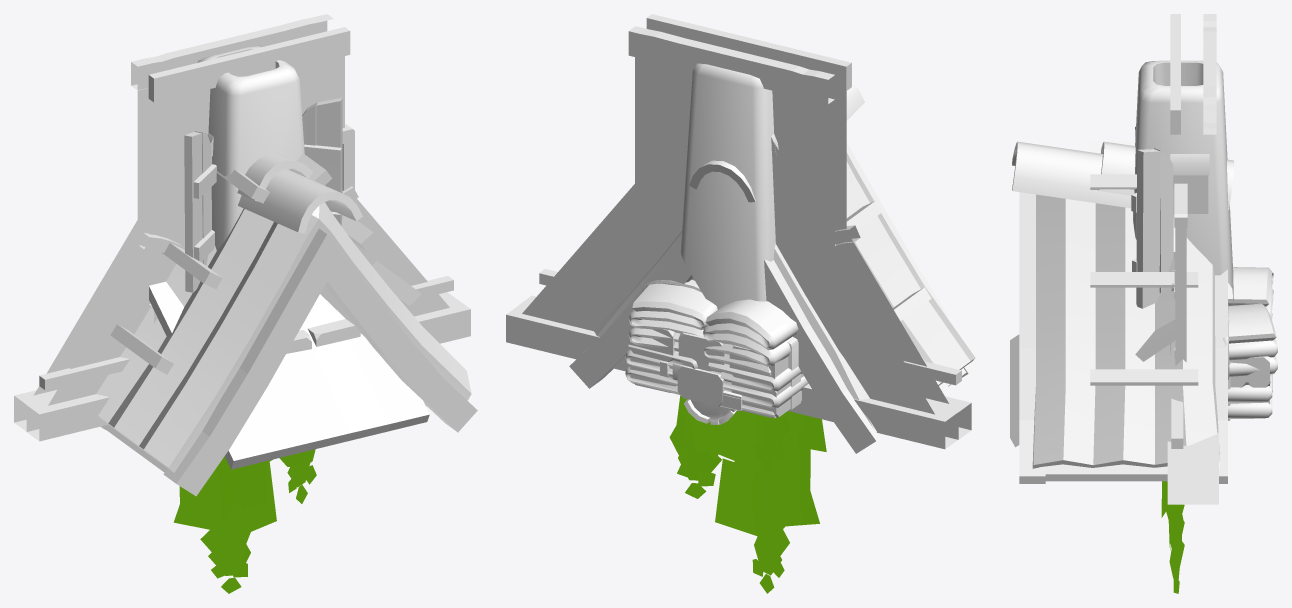
Rendered from tv_town.glb.
3 views of the same model, side by side, from view 1: azimuth 30°, elevation 25°; view 2: azimuth 150°, elevation 25°; view 3: azimuth 270°, elevation 25° (orthographic).
Visible parts, largest first — view 1: Roof_RoundTile_2x1, Roof_Front_Brick4, Roof_Wooden_2x1_Center, Wall_Plaster_Door_Flat, Prop_Chimney2, Prop_Vine1, WindowShutters_Thin_Round_Open, Wall_Plaster_Window_Thin_Round, Wall_UnevenBrick_Door_Flat, Stone_Bricks_Stack_Medium, Door_1_Flat; view 2: Roof_Front_Brick4, Roof_RoundTile_2x1, Wall_UnevenBrick_Door_Flat, Prop_Chimney2, Prop_Vine1, Textiles_Stack_Large_Colored, Wall_Plaster_Door_Flat, Wall_UnevenBrick_Window_Thin_Round, Stone_Bricks_Stack_Medium, Prop_Vine4, Wood_Log_A, Wall_Plaster_Window_Thin_Round (+1 smaller); view 3: Roof_RoundTile_2x1, Prop_Chimney2, Roof_Front_Brick4, Textiles_Stack_Large_Colored, WindowShutters_Thin_Round_Open, Wall_Plaster_Door_Flat, Door_1_Flat, Roof_Wooden_2x1_Center, Window_Thin_Round1, Prop_Vine1, Stone_Bricks_Stack_Medium, Wall_UnevenBrick_Door_Flat.
Part boxes in pixels (left/top/right/bottom): Roof_RoundTile_2x1: left=96, top=153, right=477, bottom=496; Roof_Front_Brick4: left=14, top=153, right=470, bottom=441; Roof_Wooden_2x1_Center: left=149, top=281, right=429, bottom=469; Wall_Plaster_Door_Flat: left=131, top=14, right=350, bottom=305; Prop_Chimney2: left=197, top=45, right=304, bottom=250; Prop_Vine1: left=173, top=449, right=316, bottom=593; WindowShutters_Thin_Round_Open: left=184, top=97, right=342, bottom=292; Wall_Plaster_Window_Thin_Round: left=137, top=57, right=344, bottom=323; Wall_UnevenBrick_Door_Flat: left=140, top=14, right=349, bottom=88; Stone_Bricks_Stack_Medium: left=286, top=319, right=360, bottom=353; Door_1_Flat: left=342, top=124, right=354, bottom=243; Roof_Front_Brick4: left=506, top=121, right=971, bottom=449; Roof_RoundTile_2x1: left=569, top=80, right=981, bottom=453; Wall_UnevenBrick_Door_Flat: left=628, top=14, right=850, bottom=262; Prop_Chimney2: left=680, top=63, right=775, bottom=309; Prop_Vine1: left=669, top=395, right=826, bottom=593; Textiles_Stack_Large_Colored: left=625, top=279, right=808, bottom=418; Wall_Plaster_Door_Flat: left=629, top=14, right=851, bottom=242; Wall_UnevenBrick_Window_Thin_Round: left=635, top=58, right=846, bottom=263; Stone_Bricks_Stack_Medium: left=628, top=323, right=803, bottom=417; Prop_Vine4: left=755, top=414, right=790, bottom=474; Wood_Log_A: left=683, top=398, right=737, bottom=424; Wall_Plaster_Window_Thin_Round: left=677, top=37, right=846, bottom=244; Roof_RoundTile_2x1: left=1012, top=141, right=1234, bottom=483; Prop_Chimney2: left=1133, top=60, right=1234, bottom=305; Roof_Front_Brick4: left=1090, top=140, right=1218, bottom=504; Textiles_Stack_Large_Colored: left=1223, top=267, right=1277, bottom=417; WindowShutters_Thin_Round_Open: left=1131, top=126, right=1173, bottom=308; Wall_Plaster_Door_Flat: left=1170, top=14, right=1216, bottom=355; Door_1_Flat: left=1173, top=183, right=1187, bottom=365; Roof_Wooden_2x1_Center: left=1010, top=319, right=1175, bottom=447; Window_Thin_Round1: left=1170, top=154, right=1209, bottom=213; Prop_Vine1: left=1161, top=481, right=1184, bottom=593; Stone_Bricks_Stack_Medium: left=1228, top=356, right=1272, bottom=420; Wall_UnevenBrick_Door_Flat: left=1170, top=14, right=1216, bottom=134.
Size of the model in its own units: 4.4 by 5.24 by 2.35.
